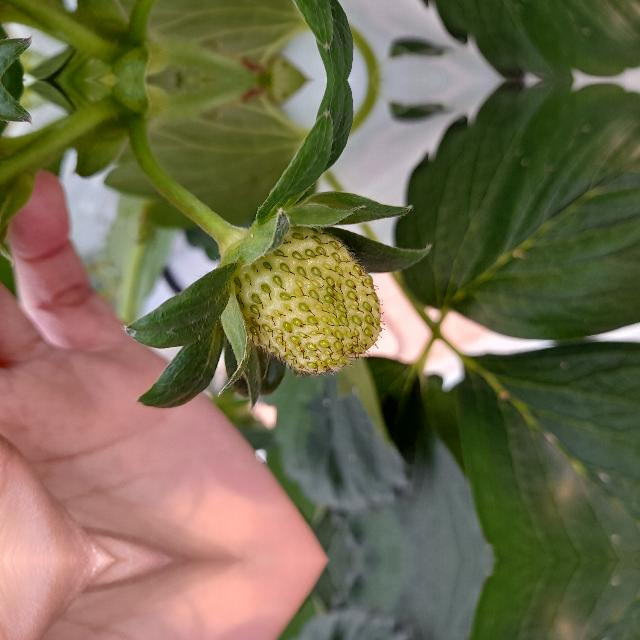Health_25: (234, 224, 382, 376)
